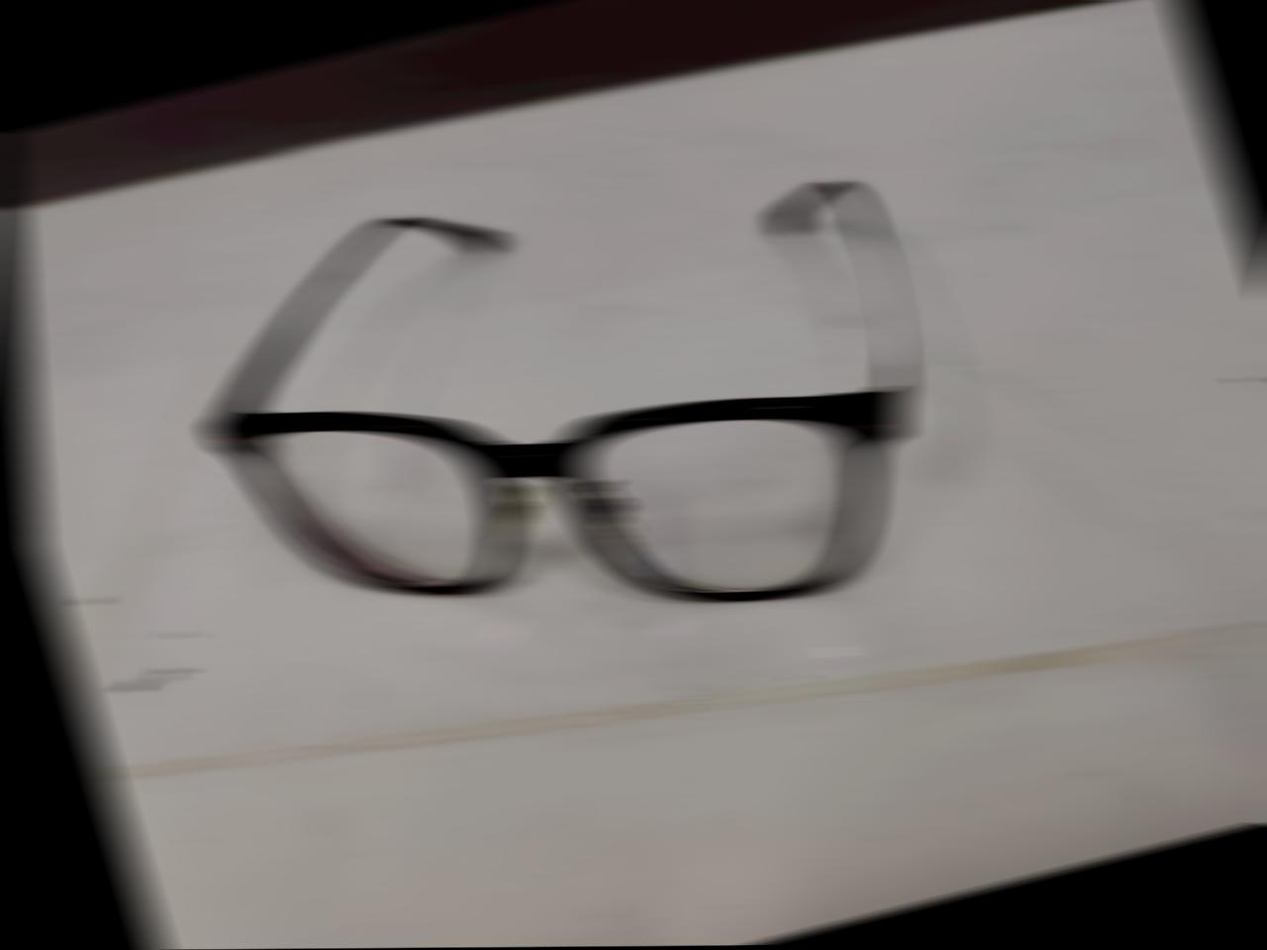glasses: (140, 98, 1029, 731)
